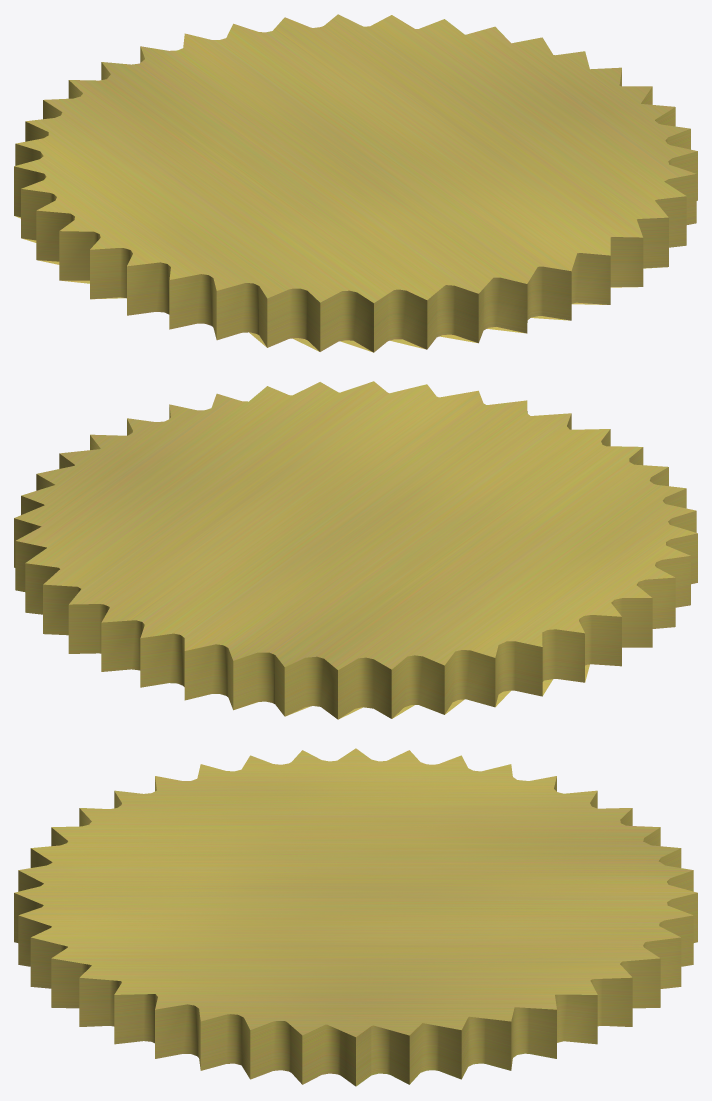
Rendered from SprocketFacet4Spoke040.fbx.
3 views of the same model, one above another, from view 1: azimuth 30°, elevation 25°; view 2: azimuth 150°, elevation 25°; view 3: azimuth 270°, elevation 25° (orthographic).
Parts seen in each view (by area): view 1: SprocketFacet4Spoke040; view 2: SprocketFacet4Spoke040; view 3: SprocketFacet4Spoke040.
Boxes of the visible parts, x1,y1,x2,y2 form: SprocketFacet4Spoke040: (14, 14, 697, 352); SprocketFacet4Spoke040: (14, 381, 697, 719); SprocketFacet4Spoke040: (14, 748, 697, 1086).
Bounding box in the file's own units: 247 × 19.69 × 247.
